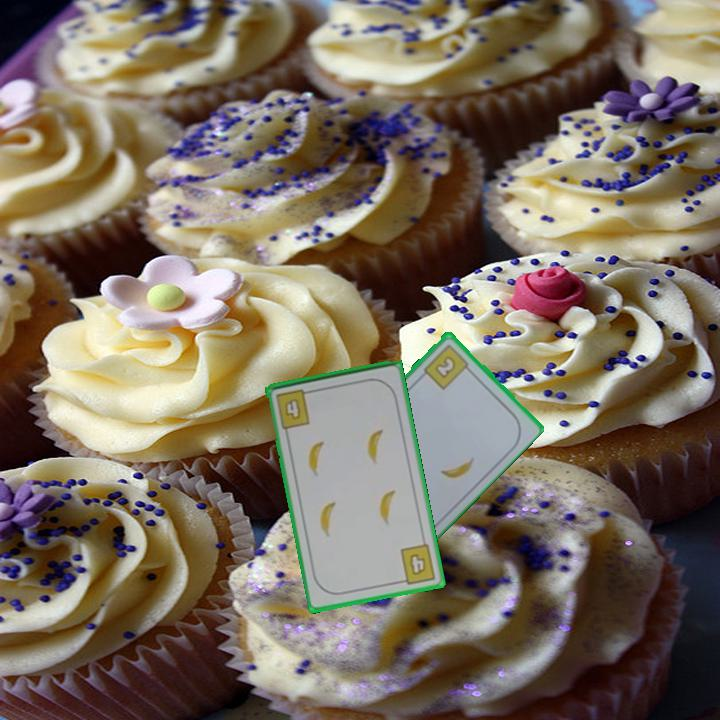2b: (420, 340, 474, 392)
4b: (395, 540, 439, 587), (272, 385, 316, 431)
